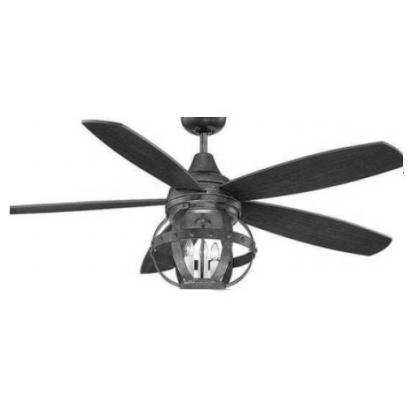ceiling-fan: (10, 117, 404, 290)
